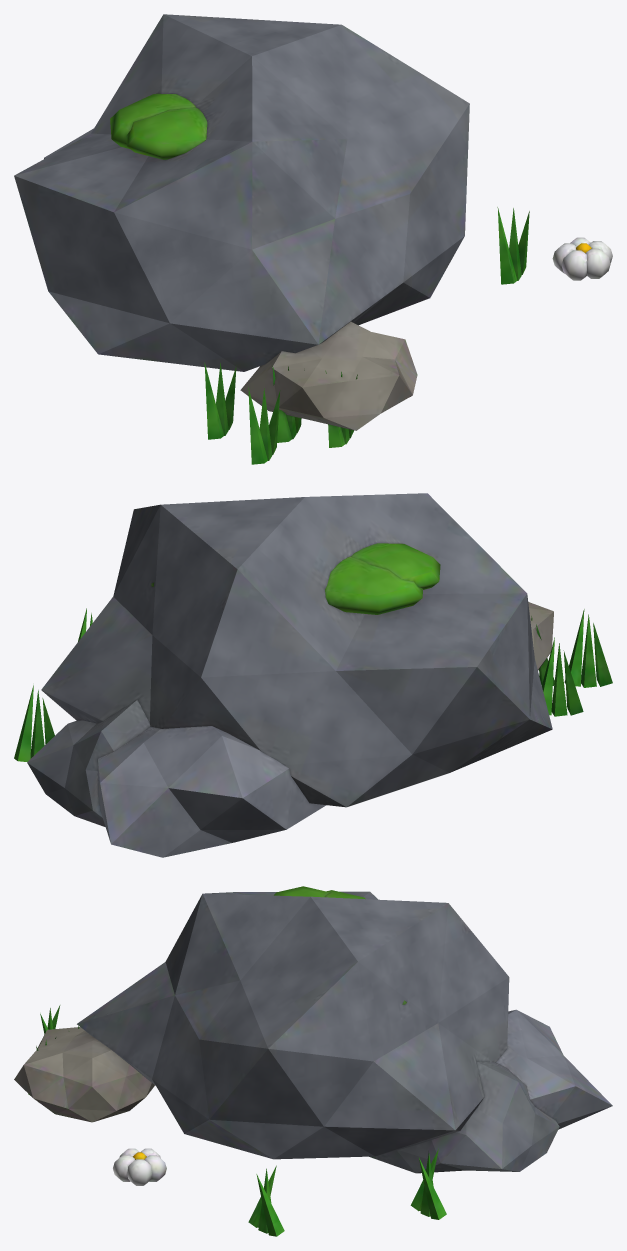
File: rock_obs1.glb
3 views of the same model, one above another, from view 1: azimuth 30°, elevation 25°; view 2: azimuth 150°, elevation 25°; view 3: azimuth 270°, elevation 25° (orthographic). The views are drawn at different scales.
Parts seen in each view (by area): view 1: rock_obs1; view 2: rock_obs1; view 3: rock_obs1.
Boxes of the visible parts, x1,y1,x2,y2 form: rock_obs1: (14, 14, 612, 464); rock_obs1: (14, 493, 612, 857); rock_obs1: (14, 886, 612, 1236).
Size of the model in its own units: 0.6999 by 0.3693 by 0.8642.
1 material, 1 textured.
